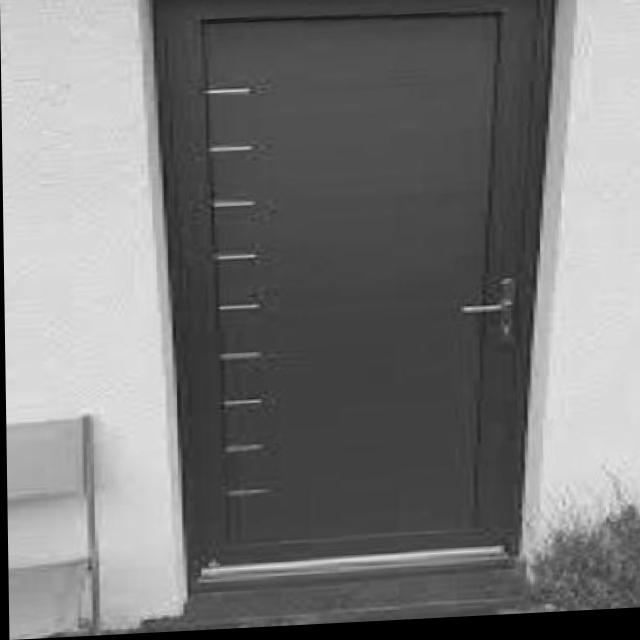door_handle: (454, 300, 514, 325)
